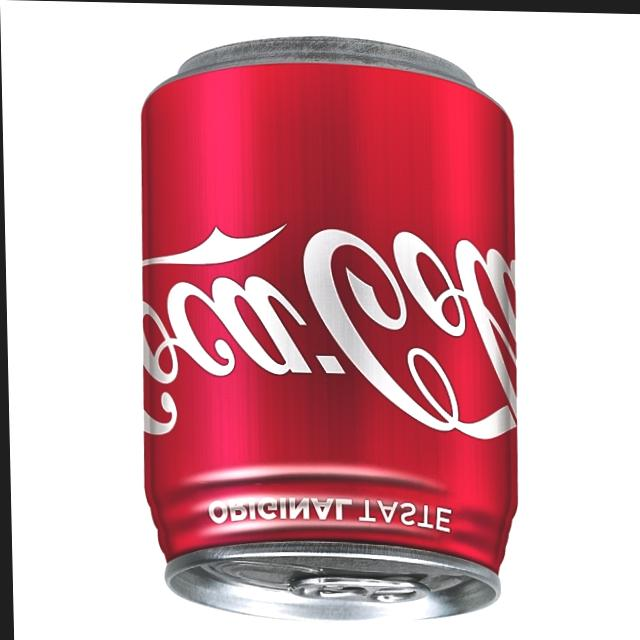can: (130, 29, 534, 638)
